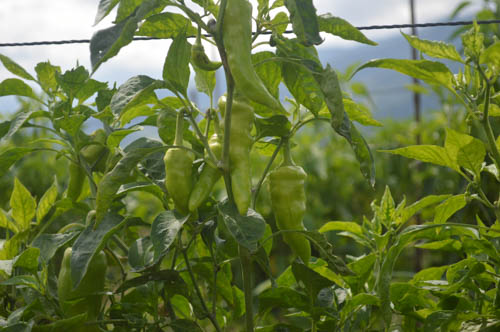ChiliPepper: (226, 4, 283, 112), (268, 168, 309, 261), (58, 249, 105, 320), (225, 103, 250, 215), (190, 143, 222, 210), (167, 148, 190, 208)
